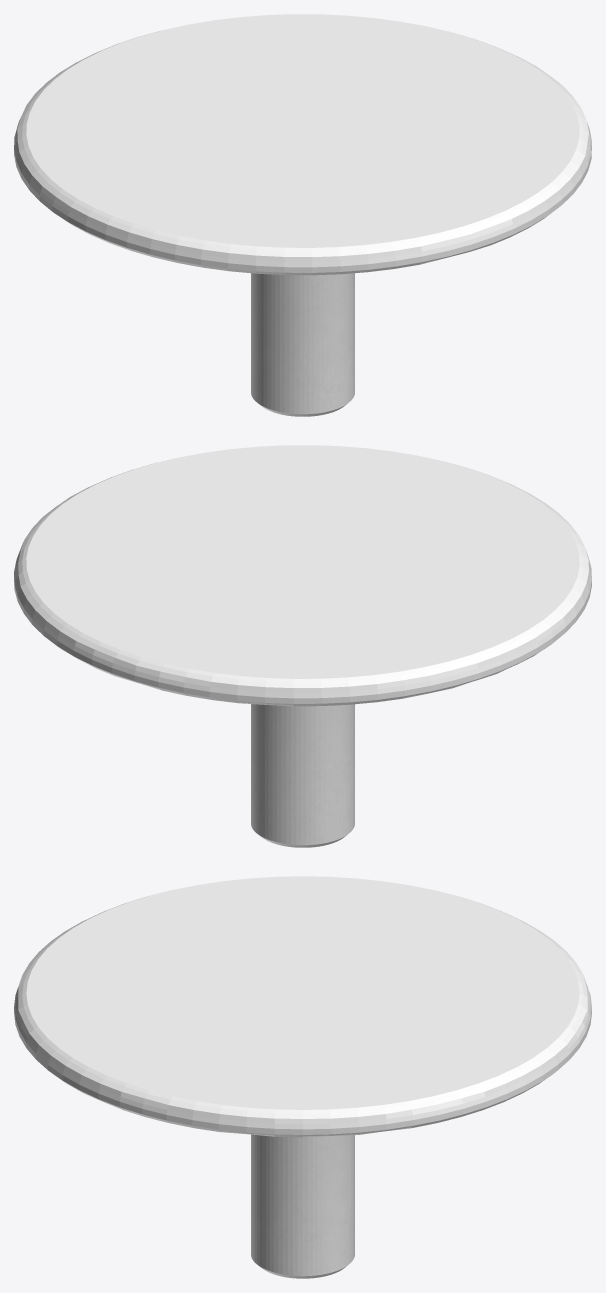
File: Table2.fbx
The picture shows the model from 3 angles, top to bottom: view 1: azimuth 30°, elevation 25°; view 2: azimuth 150°, elevation 25°; view 3: azimuth 270°, elevation 25°; orthographic projection.
Parts seen in each view (by area): view 1: Table5; view 2: Table5; view 3: Table5.
Boxes of the visible parts, bbox=[...] form: Table5: bbox=[14, 14, 591, 416]; Table5: bbox=[14, 445, 591, 847]; Table5: bbox=[14, 876, 591, 1278].
Size of the model in its own units: 11.03 by 5.6 by 11.03.
Materials: 1 (1 with a texture image).
